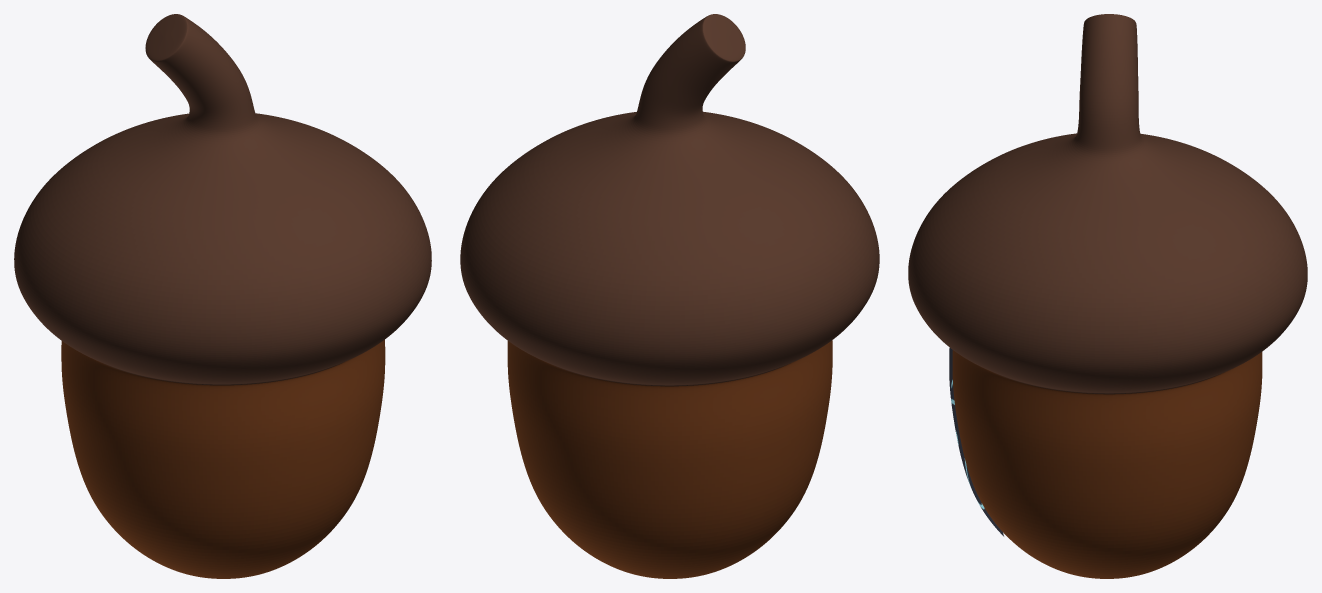
File: Electron.glb
The picture shows the model from 3 angles, left to right: view 1: azimuth 30°, elevation 25°; view 2: azimuth 150°, elevation 25°; view 3: azimuth 270°, elevation 25°; orthographic projection. The views are drawn at different scales.
Visible parts, largest first — view 1: Object_7; view 2: Object_7; view 3: Object_7, Electron.
Boxes of the visible parts, box(x1,y1,x2,y2) form: Object_7: box(14, 14, 431, 578); Object_7: box(460, 14, 879, 578); Object_7: box(908, 14, 1307, 578); Electron: box(949, 348, 1003, 536).
Bounding box in the file's own units: 1.32 × 1.94 × 1.32.
Materials: 3 (1 with a texture image).
